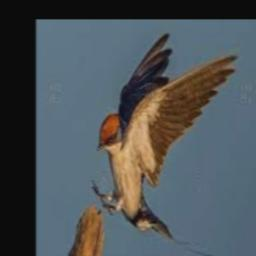Swallow: (92, 32, 241, 256)
